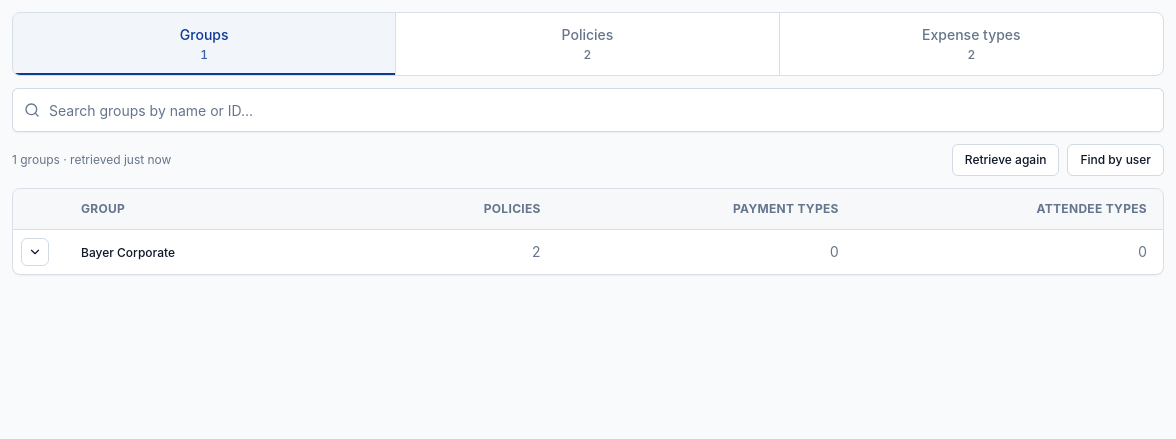
Test: ExpenseGroupsView inspection › intersects conditions on the same group-policy-expense-type relationship
Type "Corporate" into the field labelled "Search groups" at coordinates (588, 110), box [12, 88, 1164, 132]
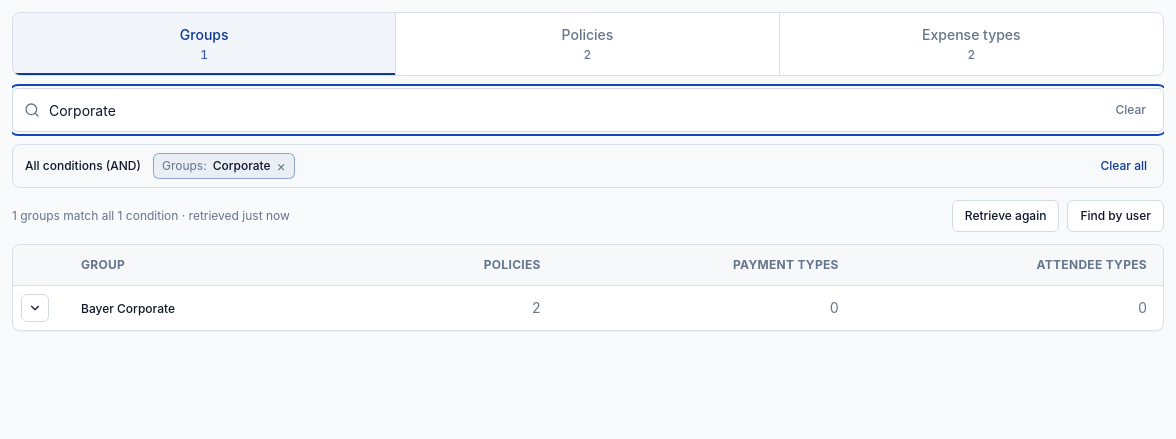
Click the tab "Policies 2" at coordinates (588, 44), box [396, 13, 780, 75]
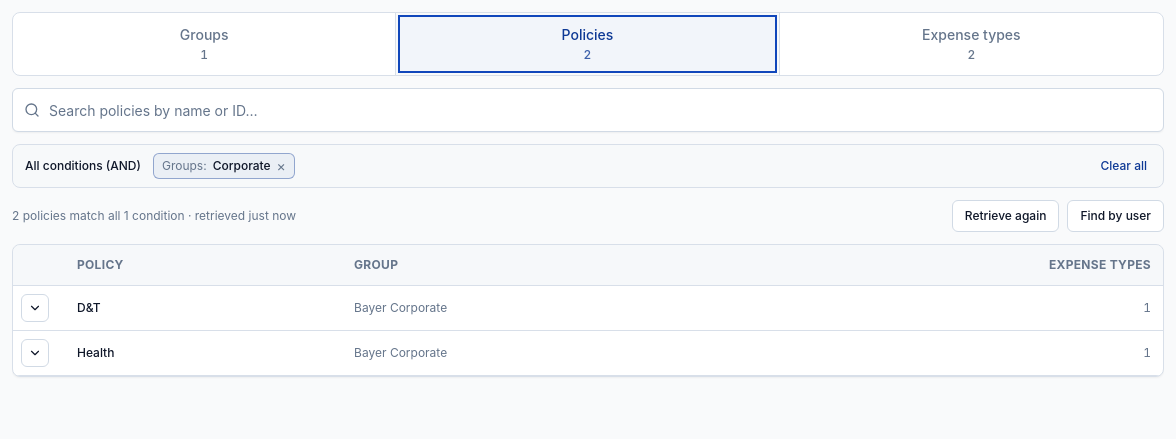
Type "D&T" into the field labelled "Search policies" at coordinates (588, 110), box [12, 88, 1164, 132]
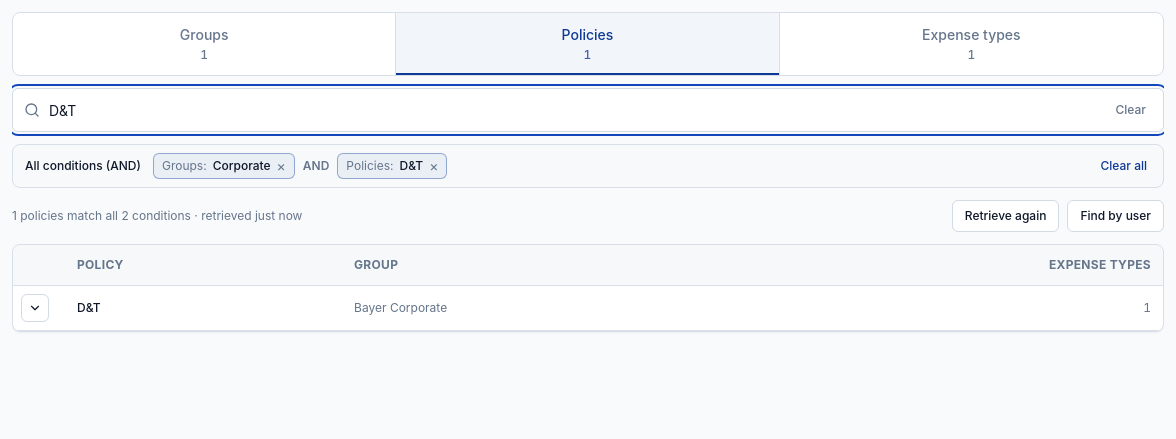
Click the tab "Expense types 1" at coordinates (971, 44), box [780, 13, 1163, 75]
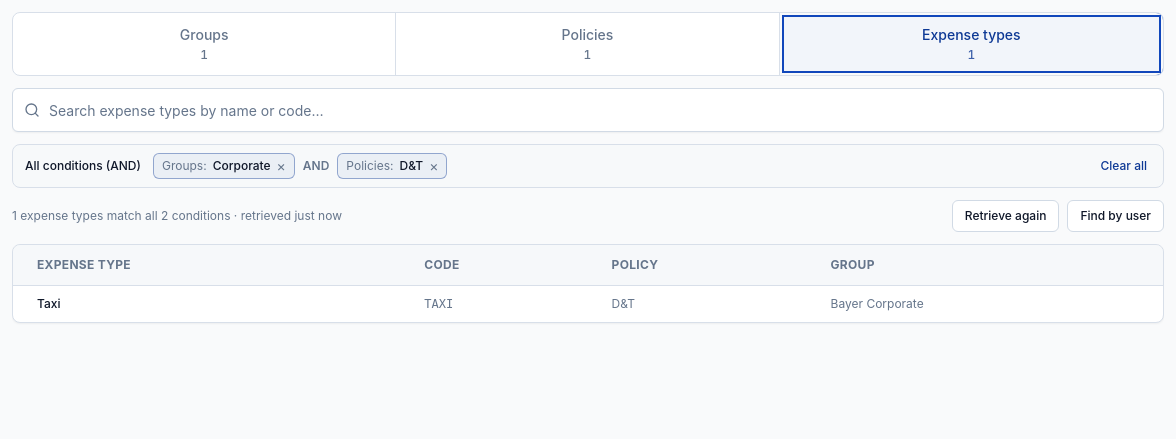
Type "Meals" into the field labelled "Search expense types" at coordinates (588, 110), box [12, 88, 1164, 132]
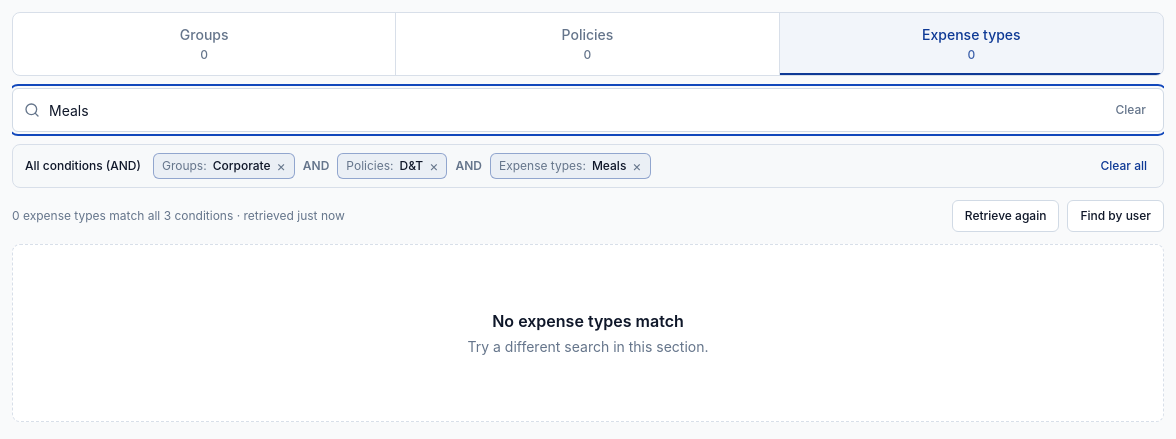
Expected: the text "0 expense types match all 3 conditions · retrieved just now" is shown, [12, 208, 345, 224]
Expected: the heading "No expense types match" is shown, [492, 309, 684, 333]
Expected: the tab "Groups 0" is shown, [13, 13, 396, 75]
Click the button with aria-label "Remove Policies condition: D&T" at coordinates (392, 166), box [337, 153, 448, 179]
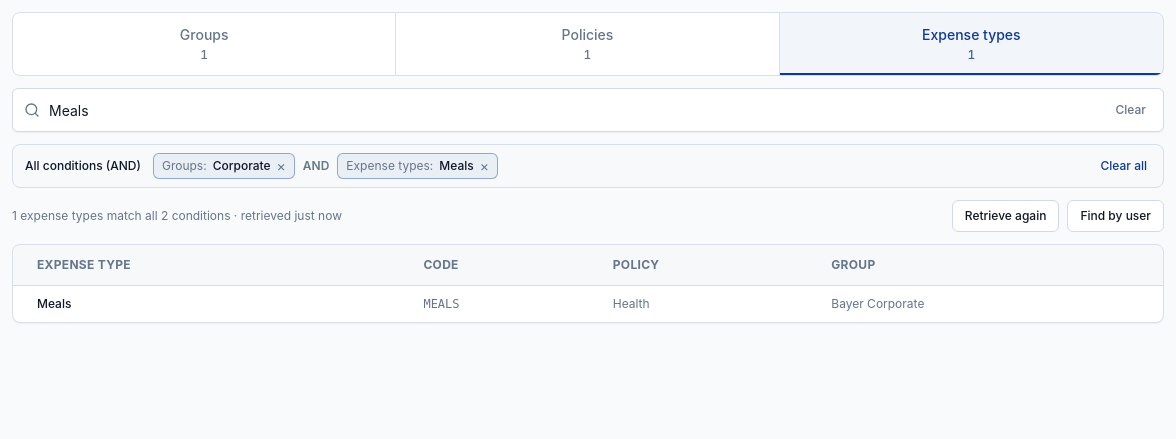
Expected: the text "1 expense types match all 2 conditions · retrieved just now" is shown, [12, 208, 342, 224]
Expected: the text "MEALS" is shown, [407, 286, 597, 322]
Expected: the tab "Groups 1" is shown, [13, 13, 396, 75]
